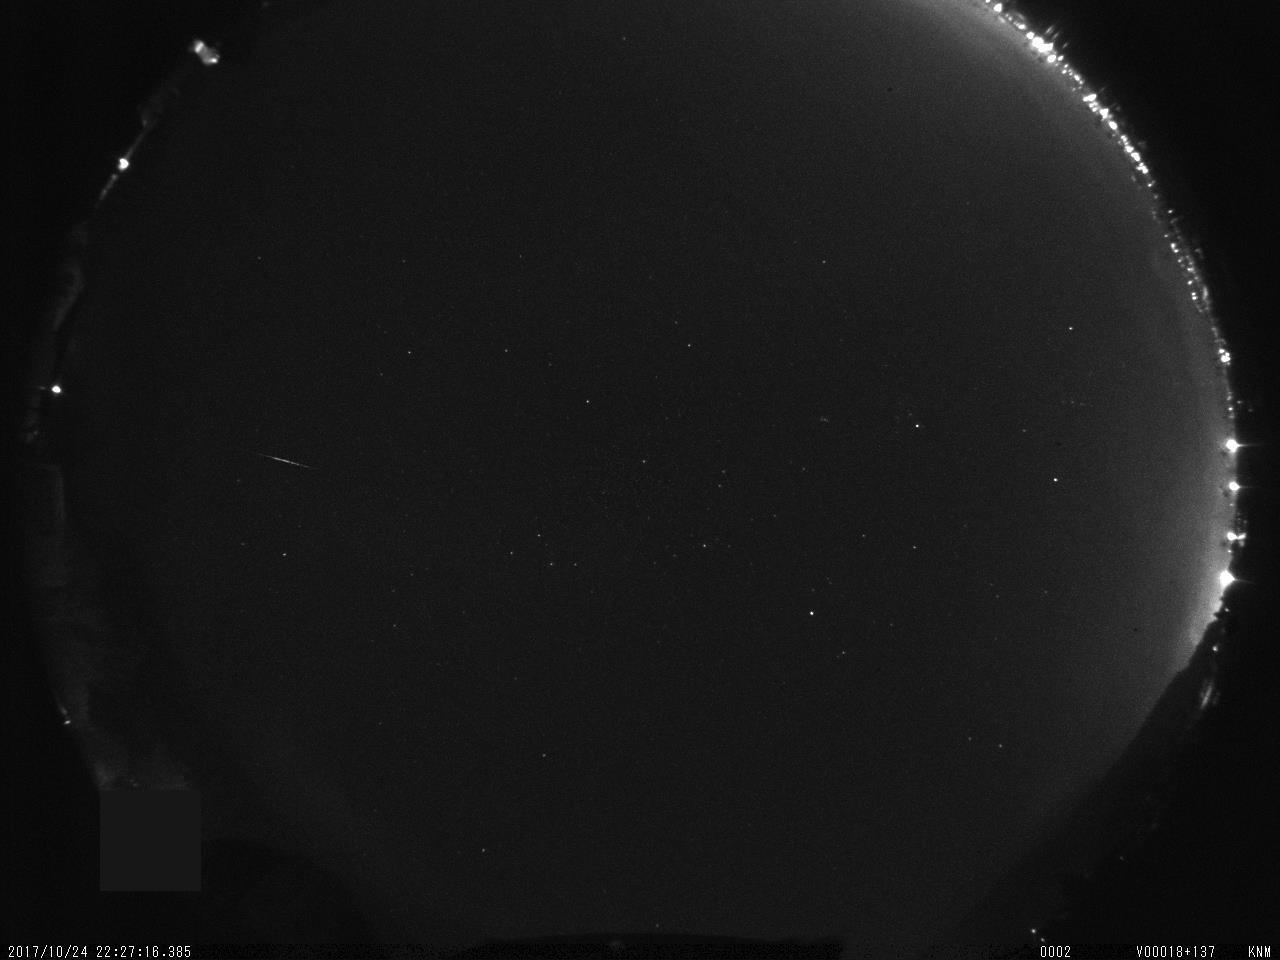Meteor: (242, 446, 314, 480)
